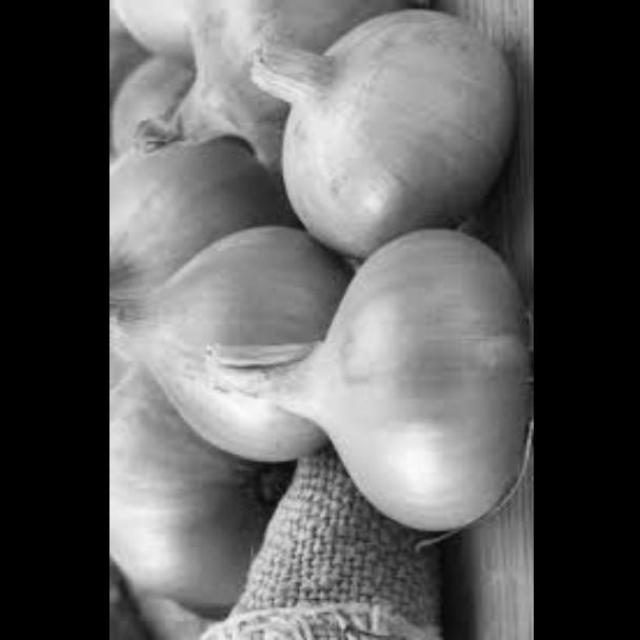cu hanh: (210, 225, 518, 535), (238, 12, 509, 249), (107, 222, 329, 464), (107, 370, 299, 605), (125, 1, 374, 174)
